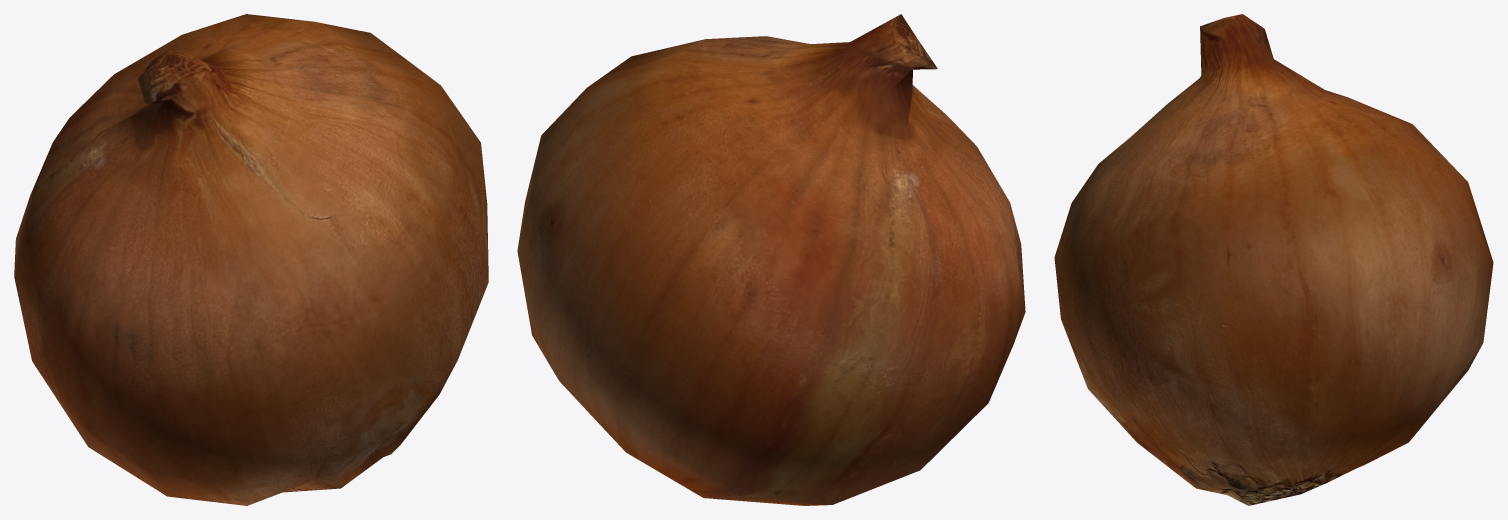
The model's file is A77_Onion_low.fbx.
The picture shows the model from 3 angles, left to right: view 1: azimuth 30°, elevation 25°; view 2: azimuth 150°, elevation 25°; view 3: azimuth 270°, elevation 25°; orthographic projection. The views are drawn at different scales.
Parts seen in each view (by area): view 1: A77_Onion_low; view 2: A77_Onion_low; view 3: A77_Onion_low.
Boxes of the visible parts, x1,y1,x2,y2 form: A77_Onion_low: (14,14,488,505); A77_Onion_low: (517,14,1025,505); A77_Onion_low: (1054,14,1493,505).
Size of the model in its own units: 9.21 by 9.14 by 9.56.
1 material, 1 textured.
